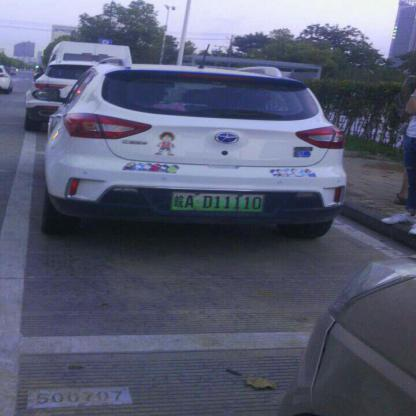lp: (172, 192, 262, 210)
